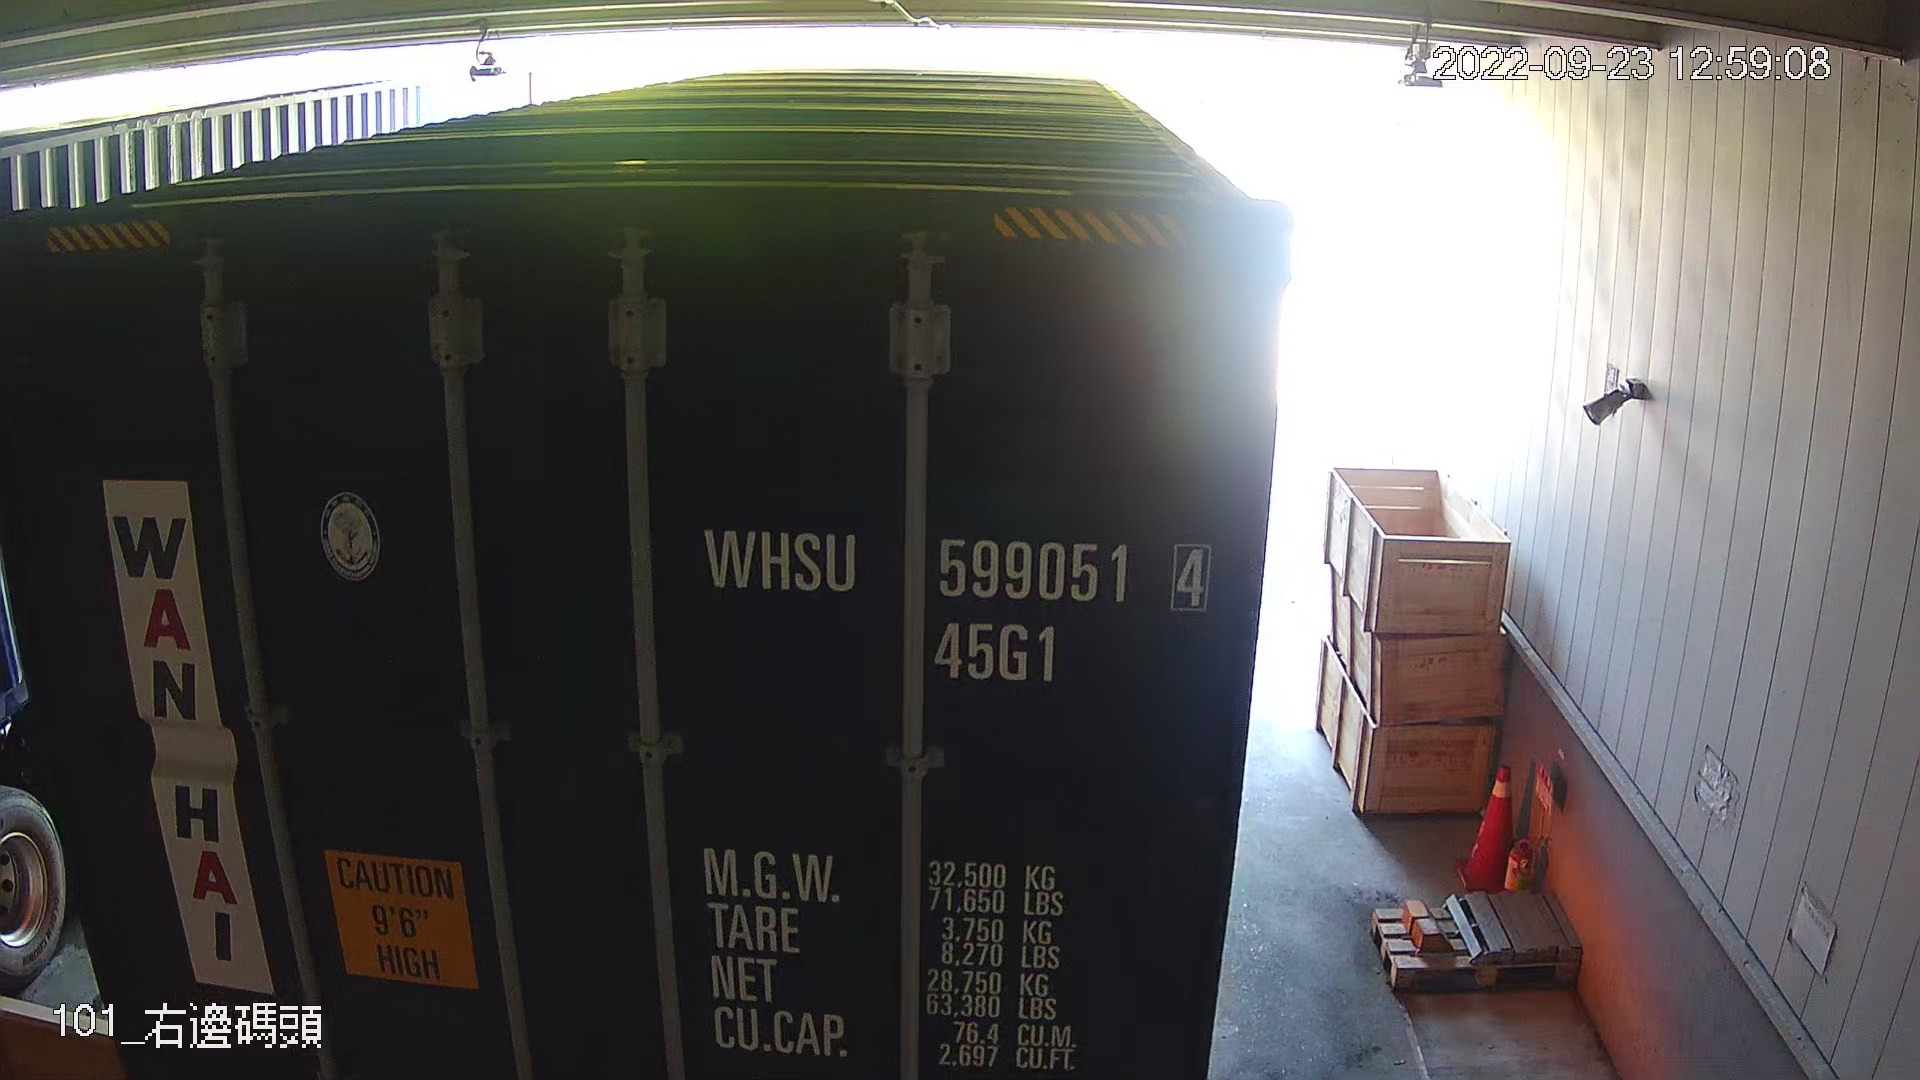container: (687, 492, 1222, 692)
